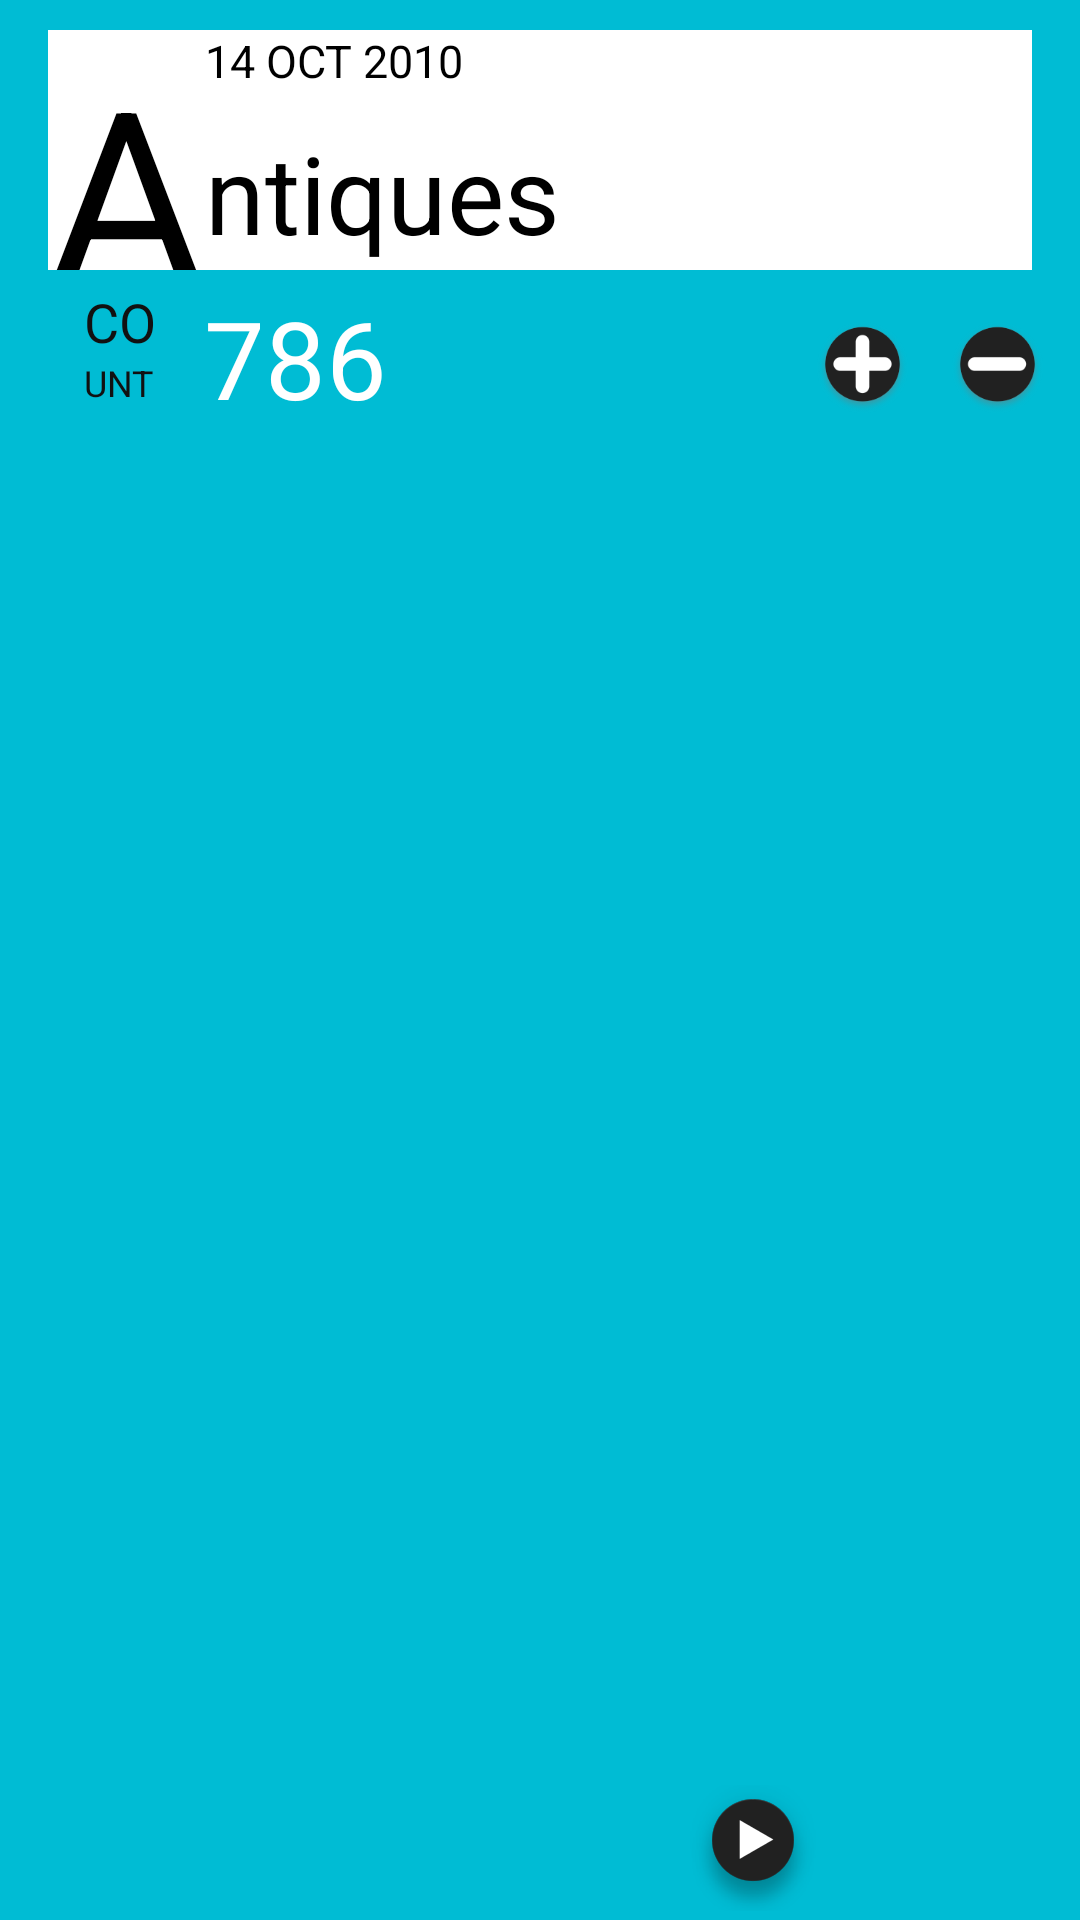

Named icons in this screenshot (1080 x 1920) and their centers, point (x, y):
minus: point (997, 366)
play: point (753, 1849)
plus: point (862, 366)
